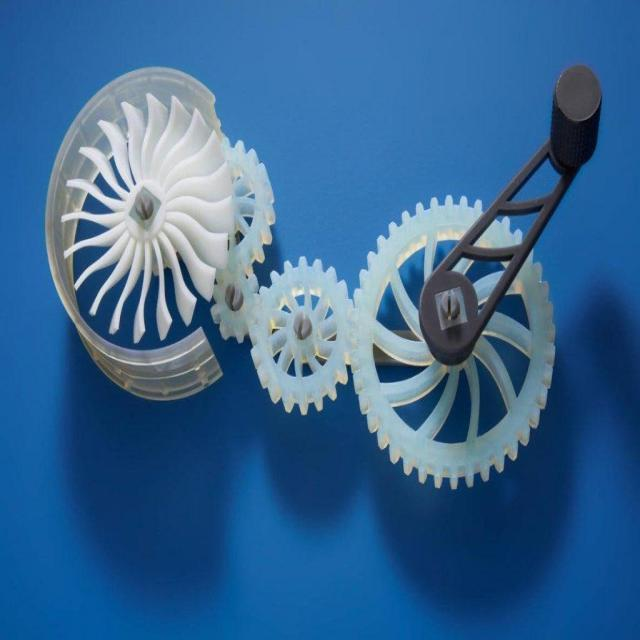Without deffect: (39, 61, 620, 510)
